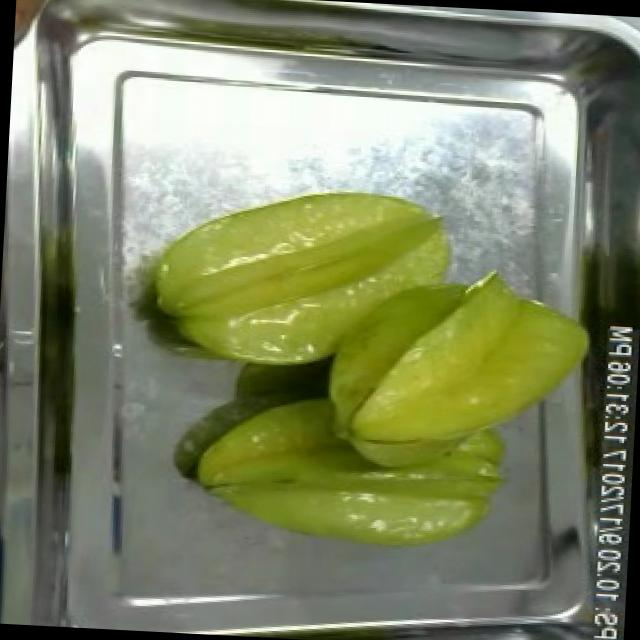fruit: (308, 253, 606, 566), (136, 170, 468, 390)
